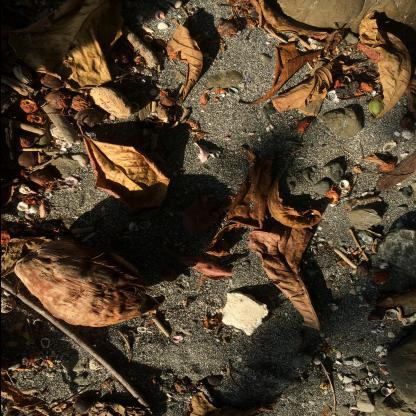kopuk: (222, 292, 269, 337)
